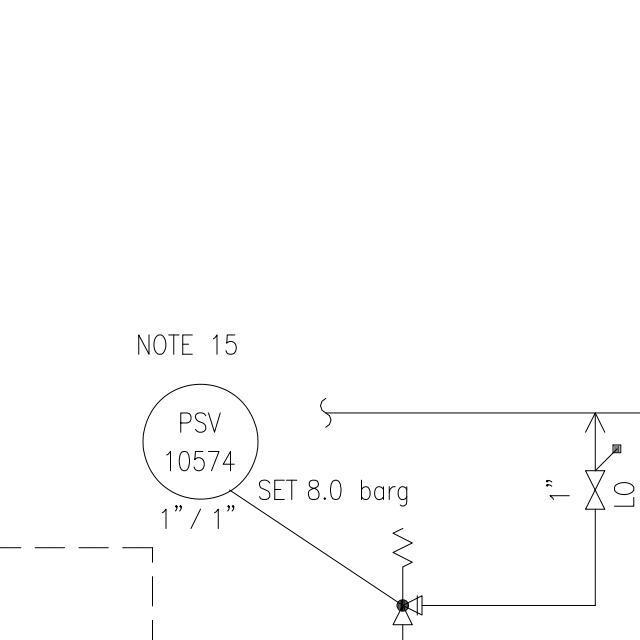GV: (581, 466, 607, 515)
RPV: (386, 521, 425, 627)
